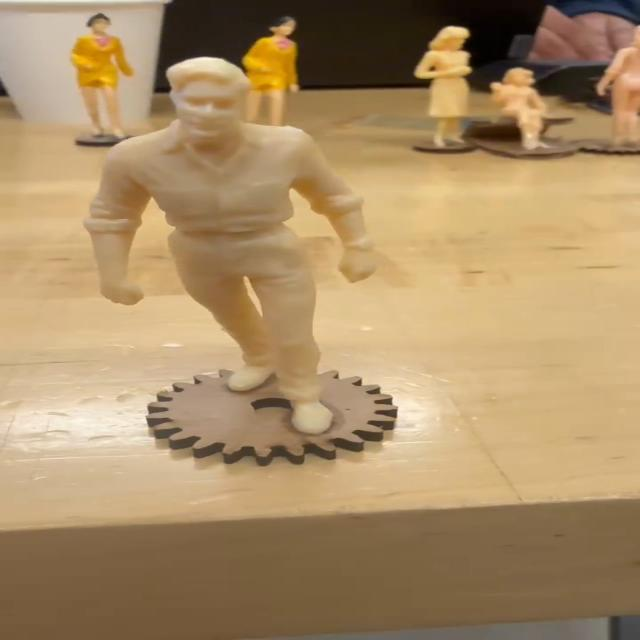Unauthorized: (73, 54, 420, 436)
